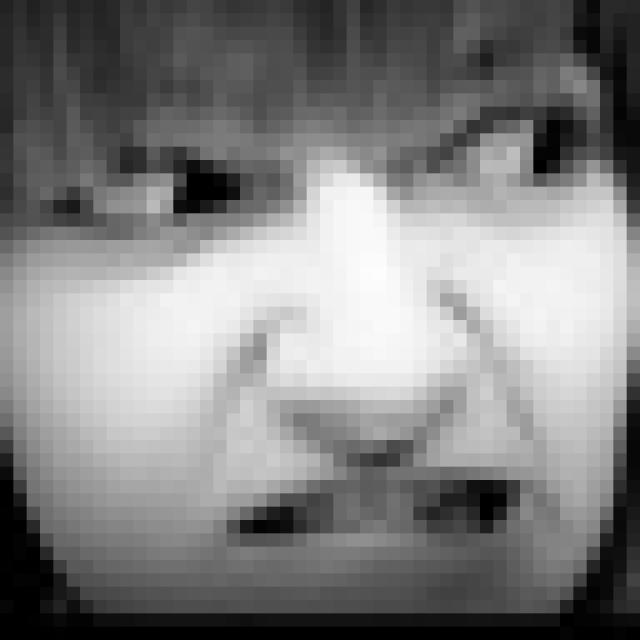disgust: (42, 30, 602, 590)
